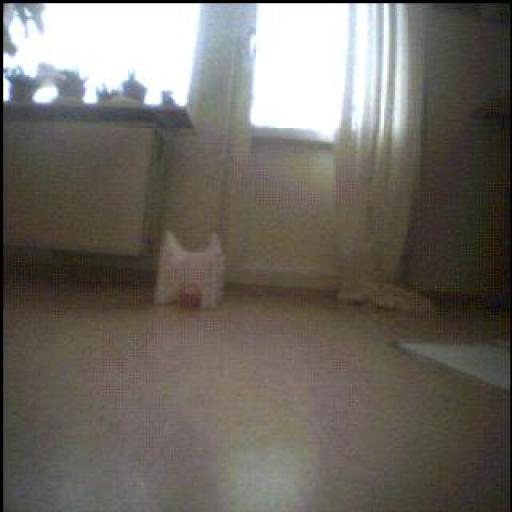Basket: (180, 286, 203, 310)
